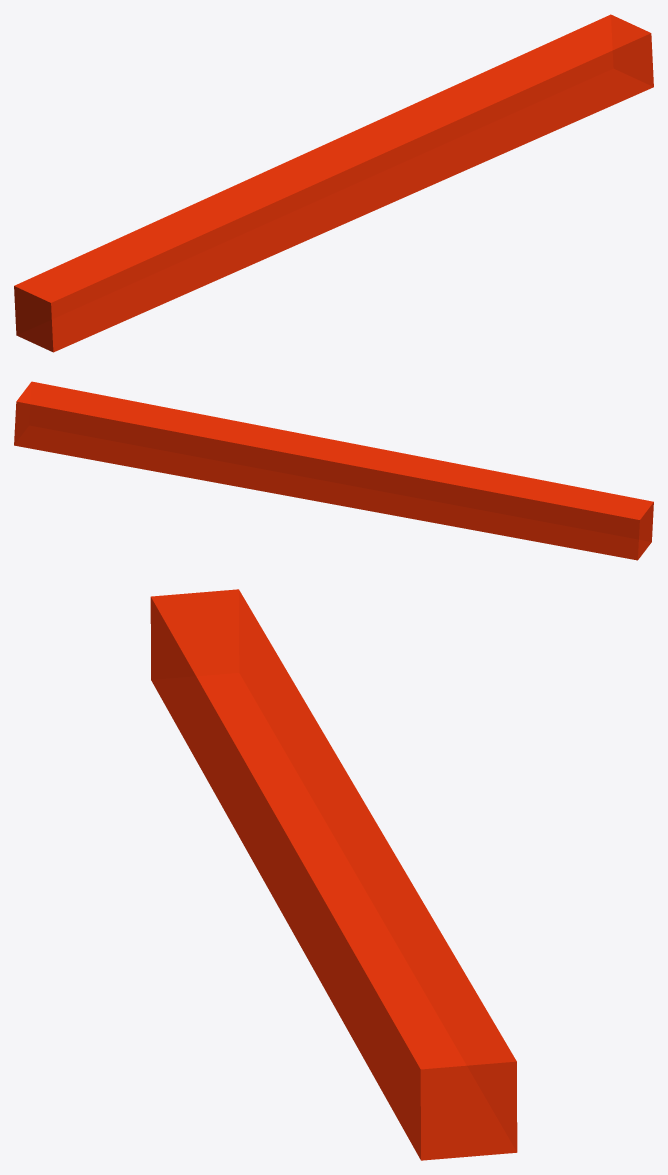
Rendered from Event_420107950_EErechit_47.fbx.
3 renders of one model, top to bottom at view 1: azimuth 30°, elevation 25°; view 2: azimuth 150°, elevation 25°; view 3: azimuth 270°, elevation 25°, orthographic. The views are drawn at different scales.
Visible parts, largest first — view 1: Model; view 2: Model; view 3: Model.
Part boxes in pixels (box(x1,y1,x2,y2)): Model: box(14, 14, 653, 352); Model: box(14, 381, 653, 560); Model: box(150, 589, 517, 1160).
Size of the model in its own units: 1.05 by 0.134 by 0.2951.
